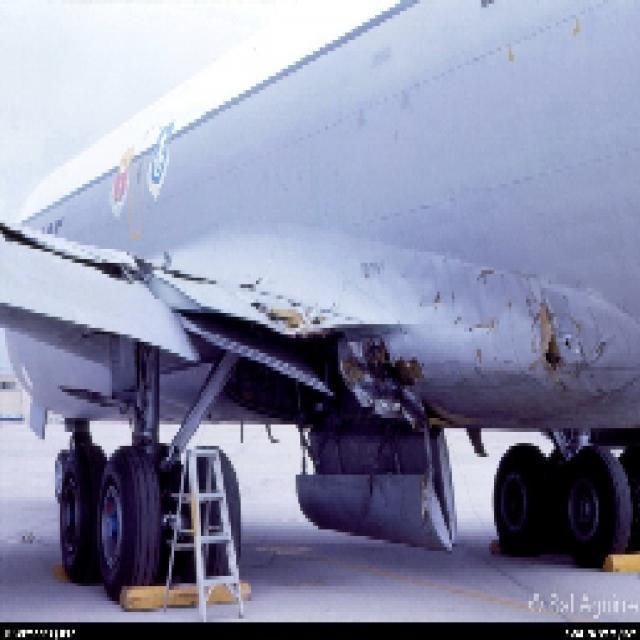crack: (538, 303, 566, 384)
dent: (402, 260, 532, 352)
